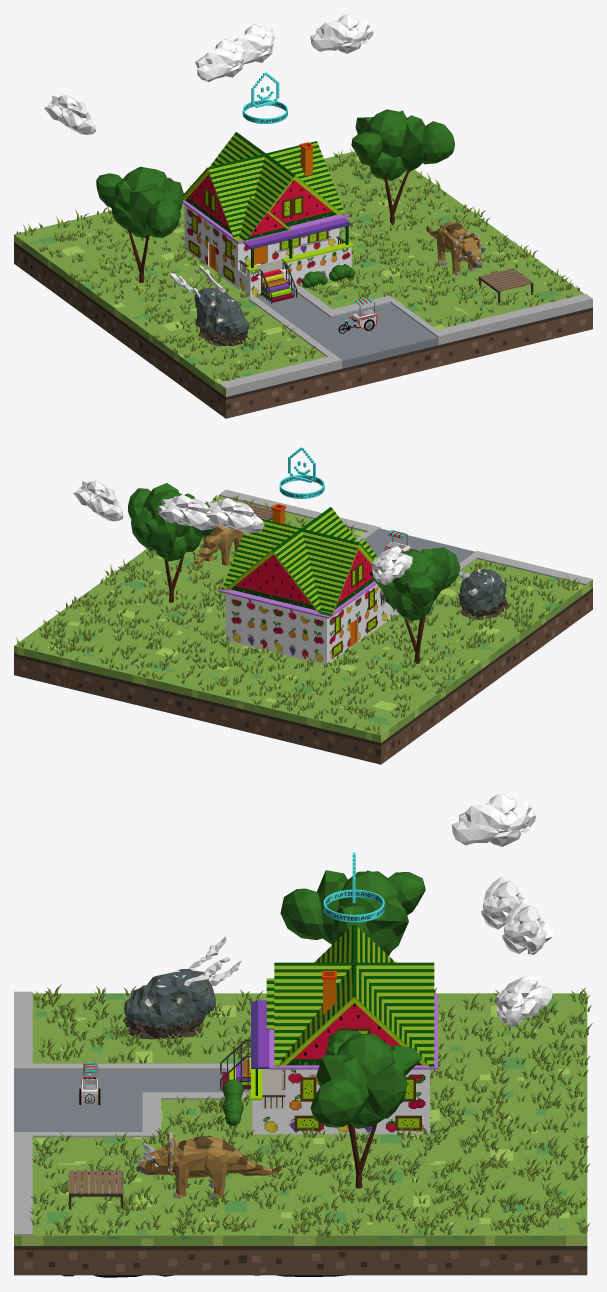
3 renders of one model, top to bottom at view 1: azimuth 30°, elevation 25°; view 2: azimuth 150°, elevation 25°; view 3: azimuth 270°, elevation 25°, orthographic. The views are drawn at different scales.
Visible parts, largest first — view 1: Cube.006, Cube.1063, Circle.012_Grass_0.192, Cube.007, tree, tree.001, OBJRANDOM_METEORITE, ANIMAL_Triceratops, TYPE_PREMIUM, Cube.009, VEHICLES_SNOWBAL_BIKE; view 2: Cube.006, Cube.1063, Circle.012_Grass_0.192, Cube.007, tree.001, tree, OBJRANDOM_METEORITE, ANIMAL_Triceratops, TYPE_PREMIUM; view 3: Cube.006, Circle.012_Grass_0.192, Cube.1063, tree, Cube.007, tree.001, OBJRANDOM_METEORITE, ANIMAL_Triceratops, Cube.009, TYPE_PREMIUM, VEHICLES_SNOWBAL_BIKE.
Boxes of the visible parts, x1,y1,x2,y2 form: Cube.006: (14, 151, 592, 418); Cube.1063: (182, 132, 353, 303); Circle.012_Grass_0.192: (16, 148, 579, 381); Cube.007: (44, 14, 373, 134); tree: (351, 109, 454, 225); tree.001: (96, 166, 183, 282); OBJRANDOM_METEORITE: (170, 265, 249, 346); ANIMAL_Triceratops: (426, 221, 485, 275); TYPE_PREMIUM: (242, 72, 287, 123); Cube.009: (479, 268, 533, 302); VEHICLES_SNOWBAL_BIKE: (338, 297, 377, 333); Cube.006: (14, 489, 592, 764); Cube.1063: (218, 503, 392, 664); Circle.012_Grass_0.192: (16, 495, 579, 734); Cube.007: (73, 480, 412, 585); tree.001: (369, 547, 460, 663); tree: (128, 483, 213, 602); OBJRANDOM_METEORITE: (458, 569, 508, 619); ANIMAL_Triceratops: (193, 525, 243, 565); TYPE_PREMIUM: (279, 447, 324, 498); Cube.006: (14, 991, 587, 1275); Circle.012_Grass_0.192: (29, 984, 592, 1236); Cube.1063: (220, 924, 437, 1134); tree: (310, 1029, 422, 1188); Cube.007: (451, 793, 552, 1026); tree.001: (280, 870, 425, 955); OBJRANDOM_METEORITE: (123, 936, 241, 1039); ANIMAL_Triceratops: (135, 1132, 282, 1199); Cube.009: (69, 1170, 122, 1209); TYPE_PREMIUM: (323, 852, 384, 922); VEHICLES_SNOWBAL_BIKE: (79, 1061, 100, 1105).
Size of the model in its own units: 4071 by 2273 by 4040.
Materials: 37 (6 with a texture image).
